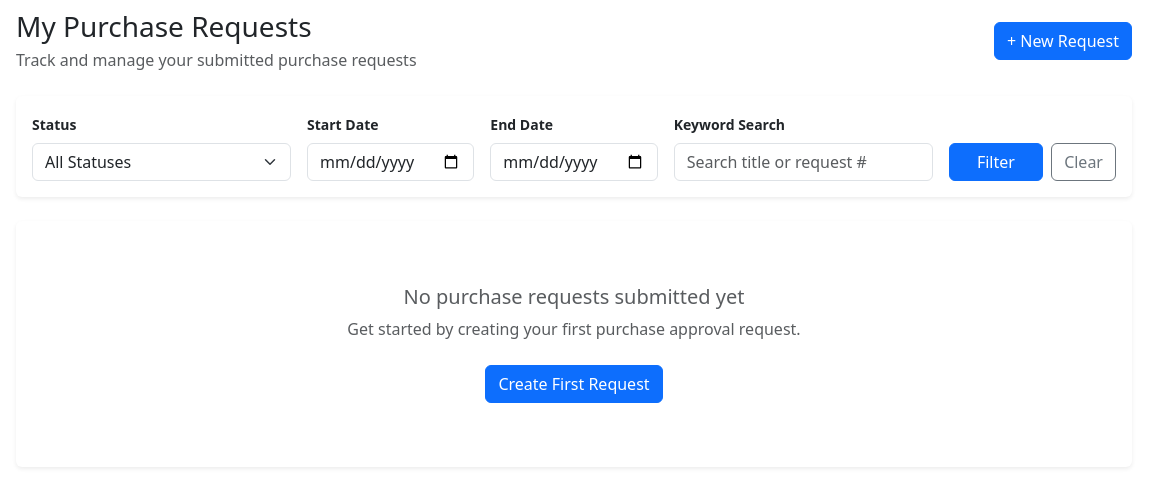
Scenario: Frontend component tests: Request Filtering & Search (FEAT-10) › RequesterDashboard filtering controls › displays appropriate empty state when no requests match filter
The width and height of the screenshot is (1149, 486).
Expected: the heading "No purchase requests submitted yet" is shown, [404,283,744,310]
Note: Apply filter that yields no results
Type "NonExistent" into the field labelled "Keyword Search" at x=803, y=162, box [674,143,933,181]
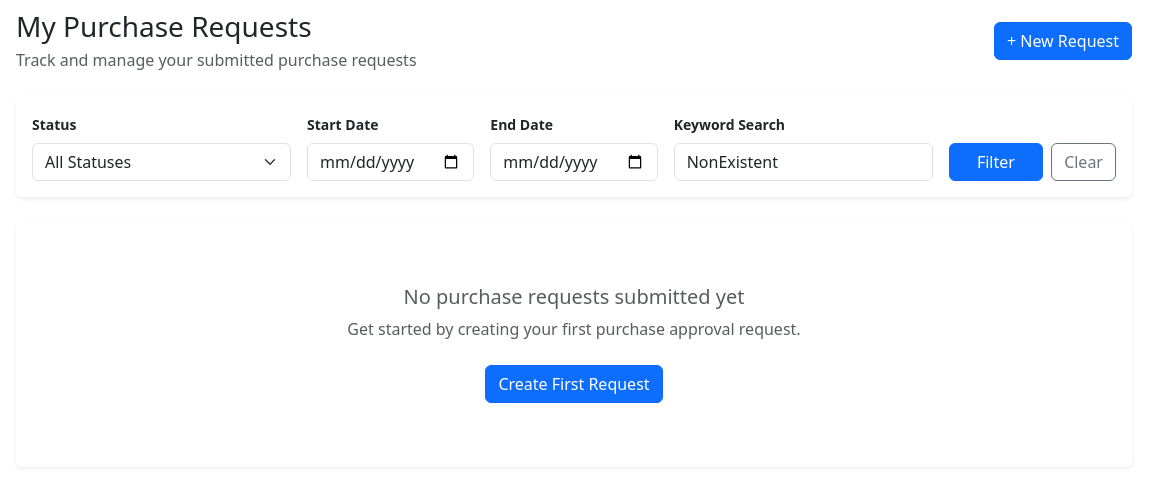
Click the button "Filter" at x=996, y=162, box [949,143,1043,181]
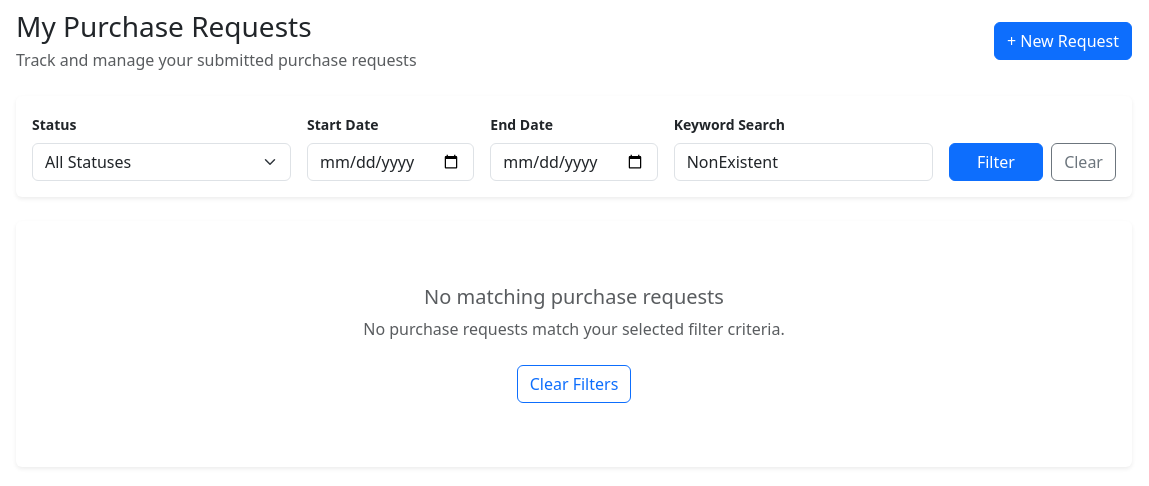
Now the heading "No matching purchase requests" is shown, box [424,283,724,310]
Now the text "No purchase requests match your selected filter criteria." is shown, box [363,318,785,340]
